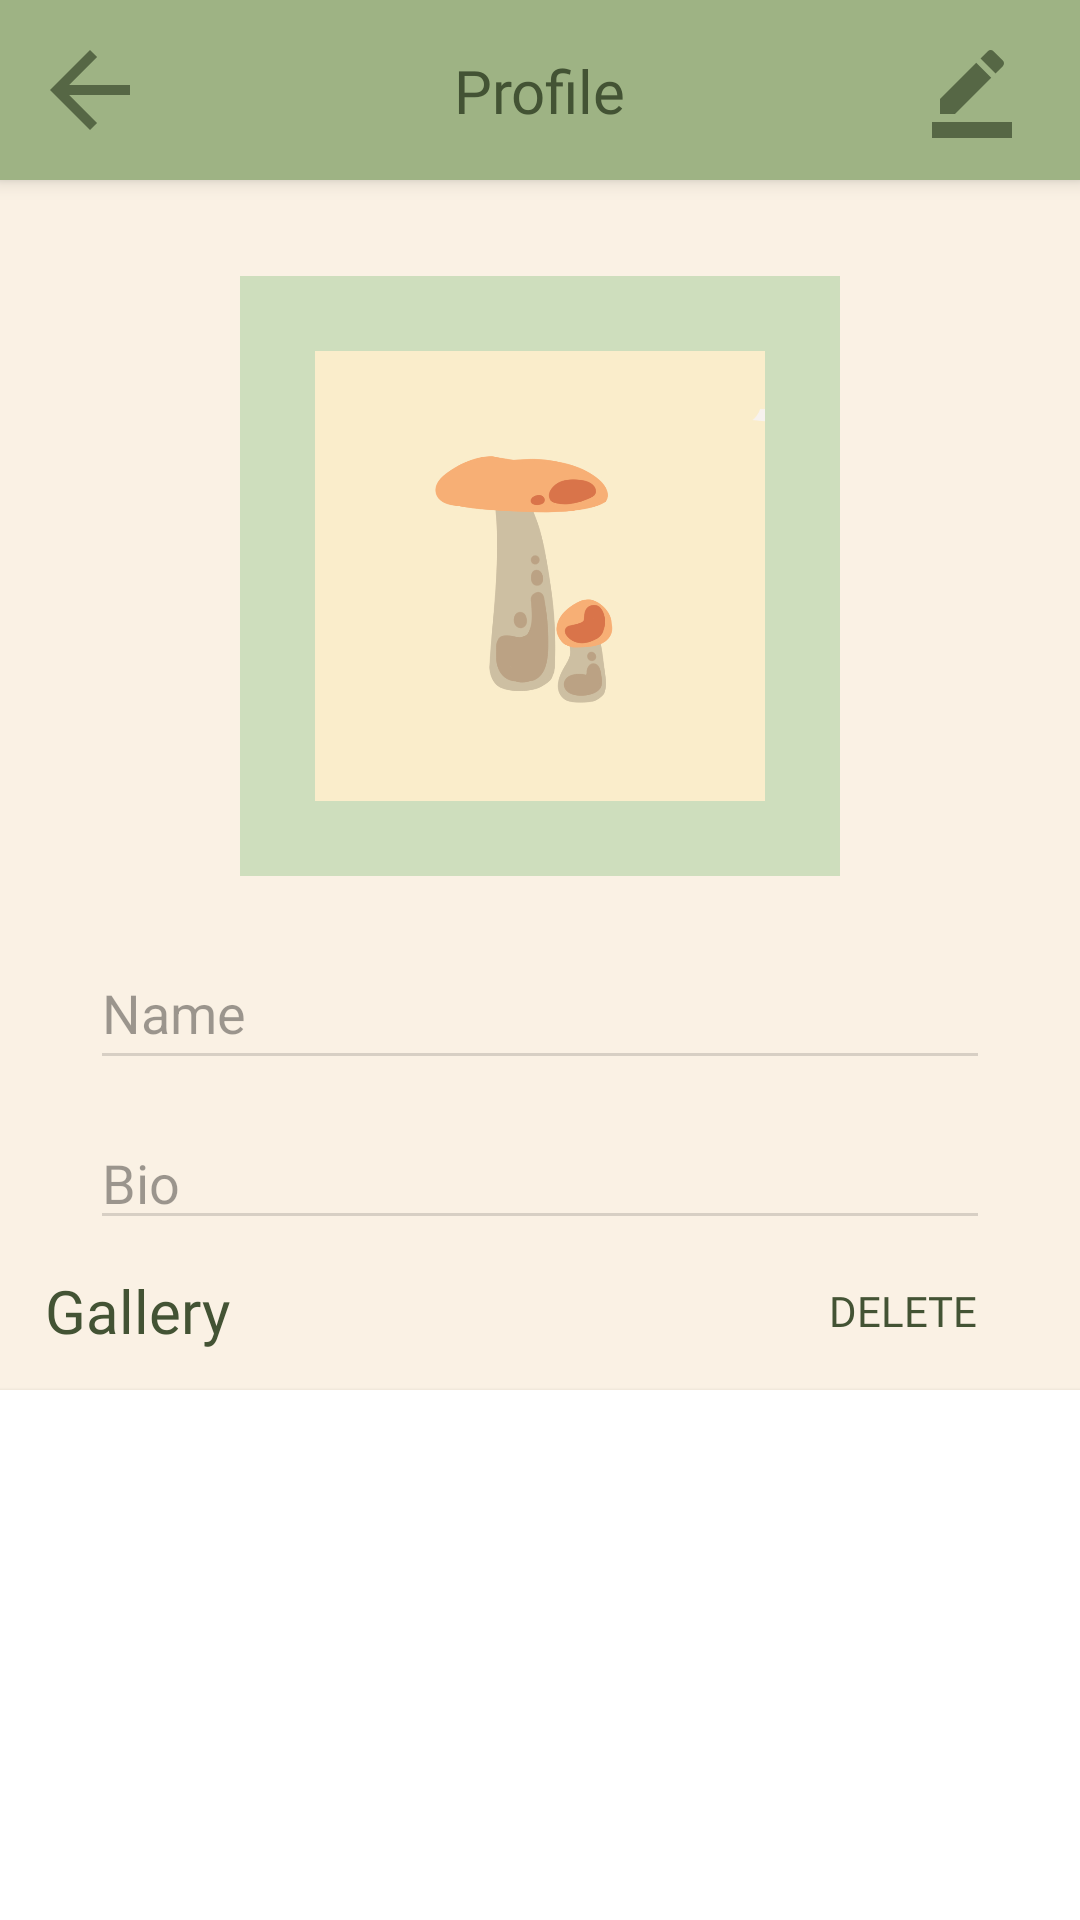

Icon click points for this 1080w x 1920h phone screenshot, format point (x, y):
Back Button: point (90, 90)
Edit Button: point (972, 94)
